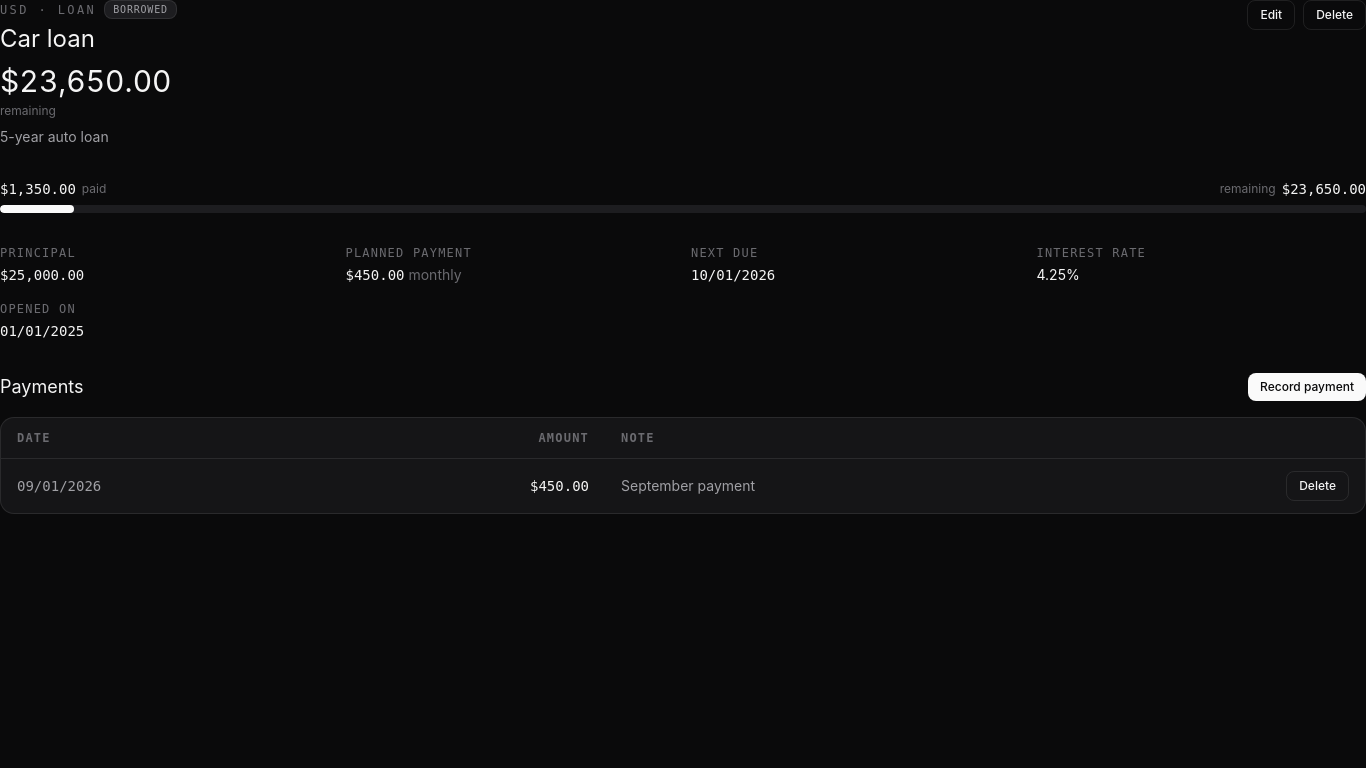
it: LoanDetail › confirms before deleting the loan, then deletes and navigates back
Expected: the heading "Car loan" is shown, x1=0 y1=24 x2=95 y2=53
Click the button "Delete" in the row of "Borrowed".
click(1335, 15)  # box x1=1303 y1=0 x2=1365 y2=30
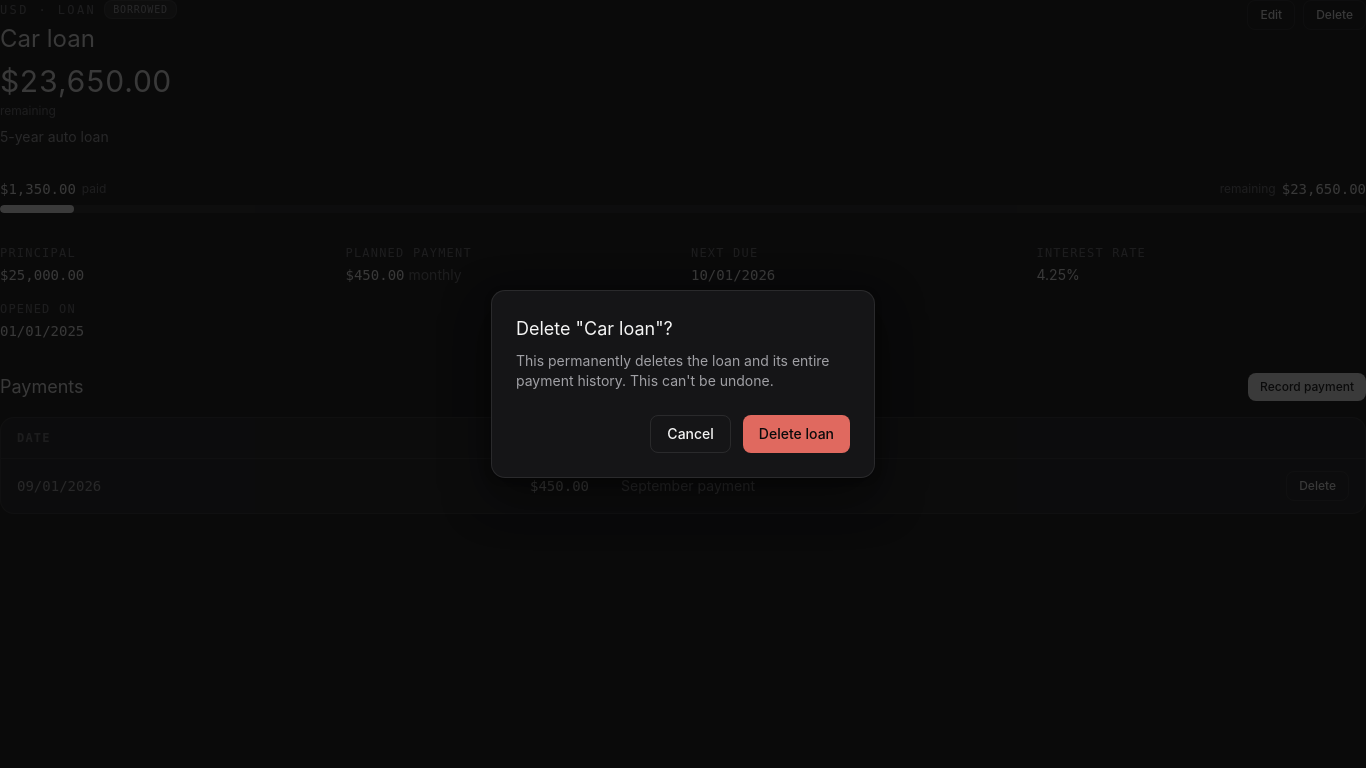
Click the button "Delete loan".
click(796, 434)  # box x1=743 y1=415 x2=850 y2=453
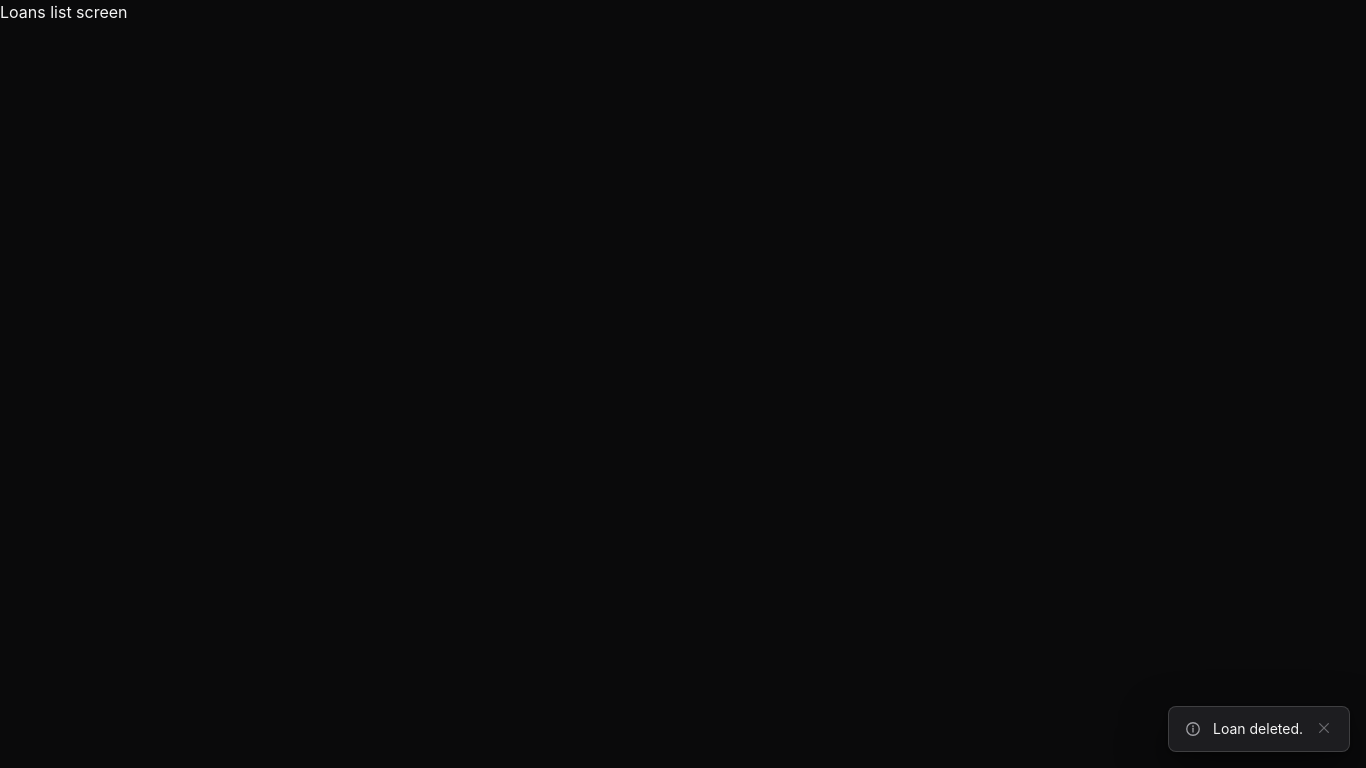
Now the text "Loans list screen" is shown, box x1=0 y1=2 x2=128 y2=22
